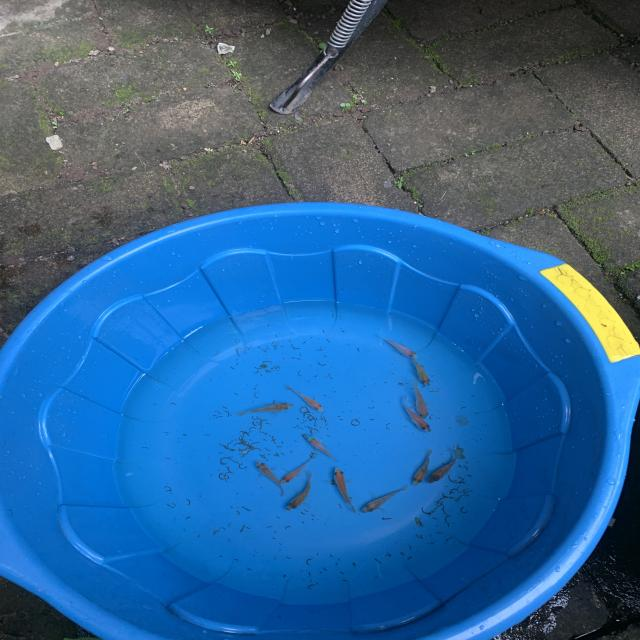nila: (421, 446, 465, 488), (280, 468, 322, 511), (361, 485, 413, 515), (276, 452, 316, 490), (331, 465, 360, 514), (370, 334, 420, 362), (408, 446, 440, 489), (401, 394, 435, 434), (283, 385, 329, 414), (306, 434, 346, 466), (228, 399, 300, 416), (406, 352, 437, 391), (254, 458, 285, 497), (409, 378, 433, 420)
